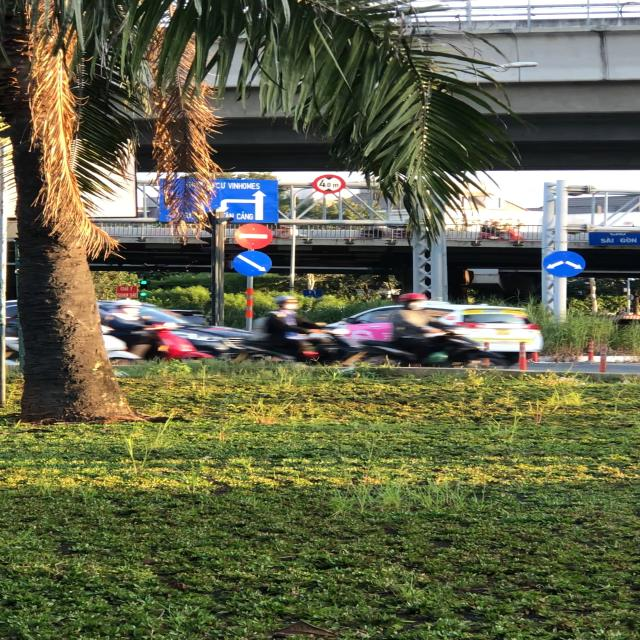Bien bao cam di nguoc chieu: (228, 221, 279, 250)
Bien bao han che chieu cao: (311, 173, 350, 195)
Bien bao huong phai di vong chuong ngai vat: (539, 248, 590, 278), (231, 248, 278, 279)
